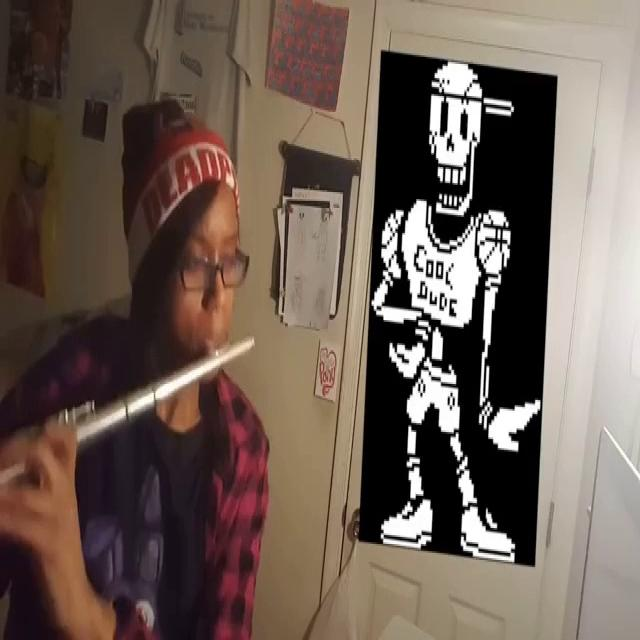Flute: (2, 324, 262, 512)
